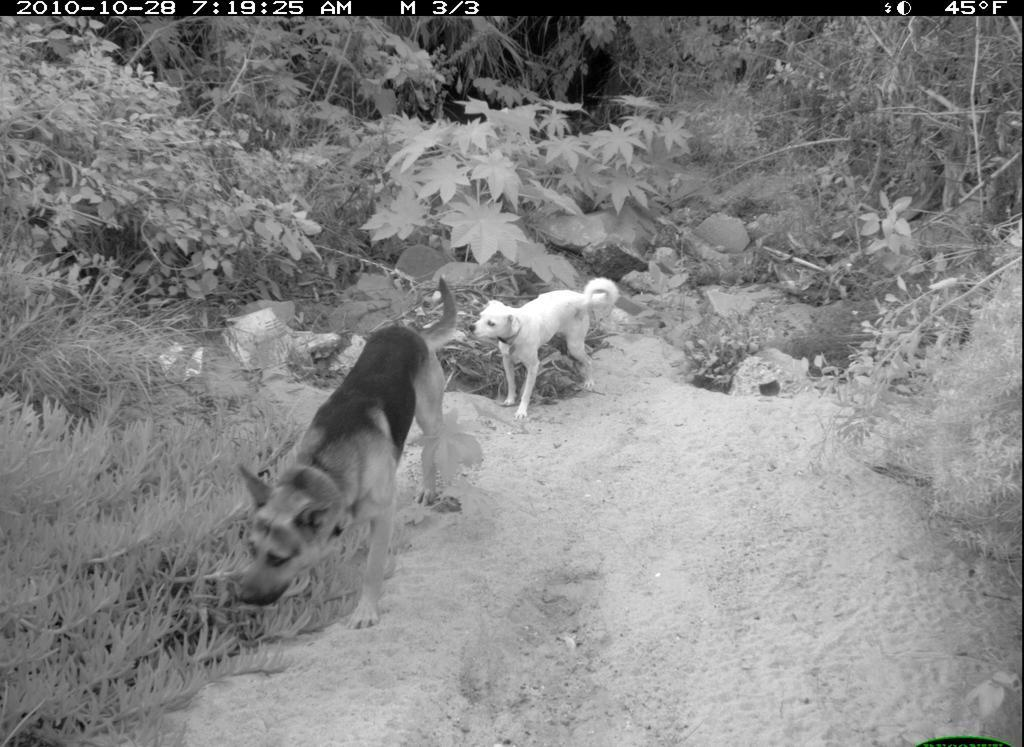dog: (223, 277, 465, 629), (469, 276, 623, 427)
